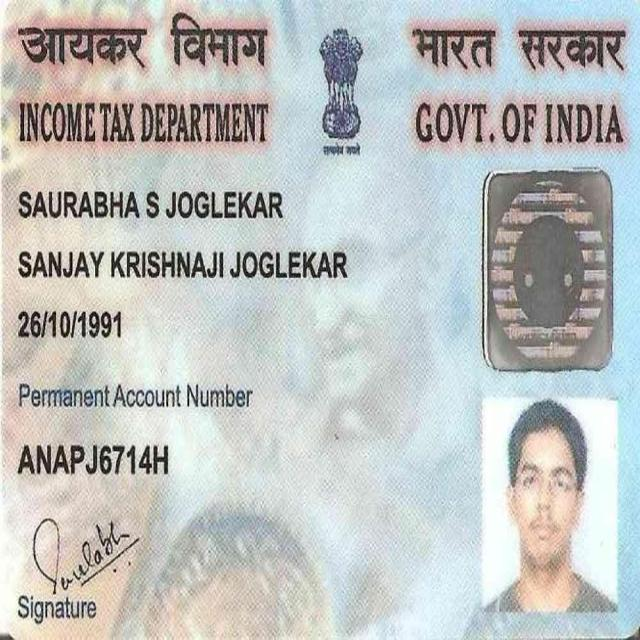pan_card: (1, 5, 638, 640)
